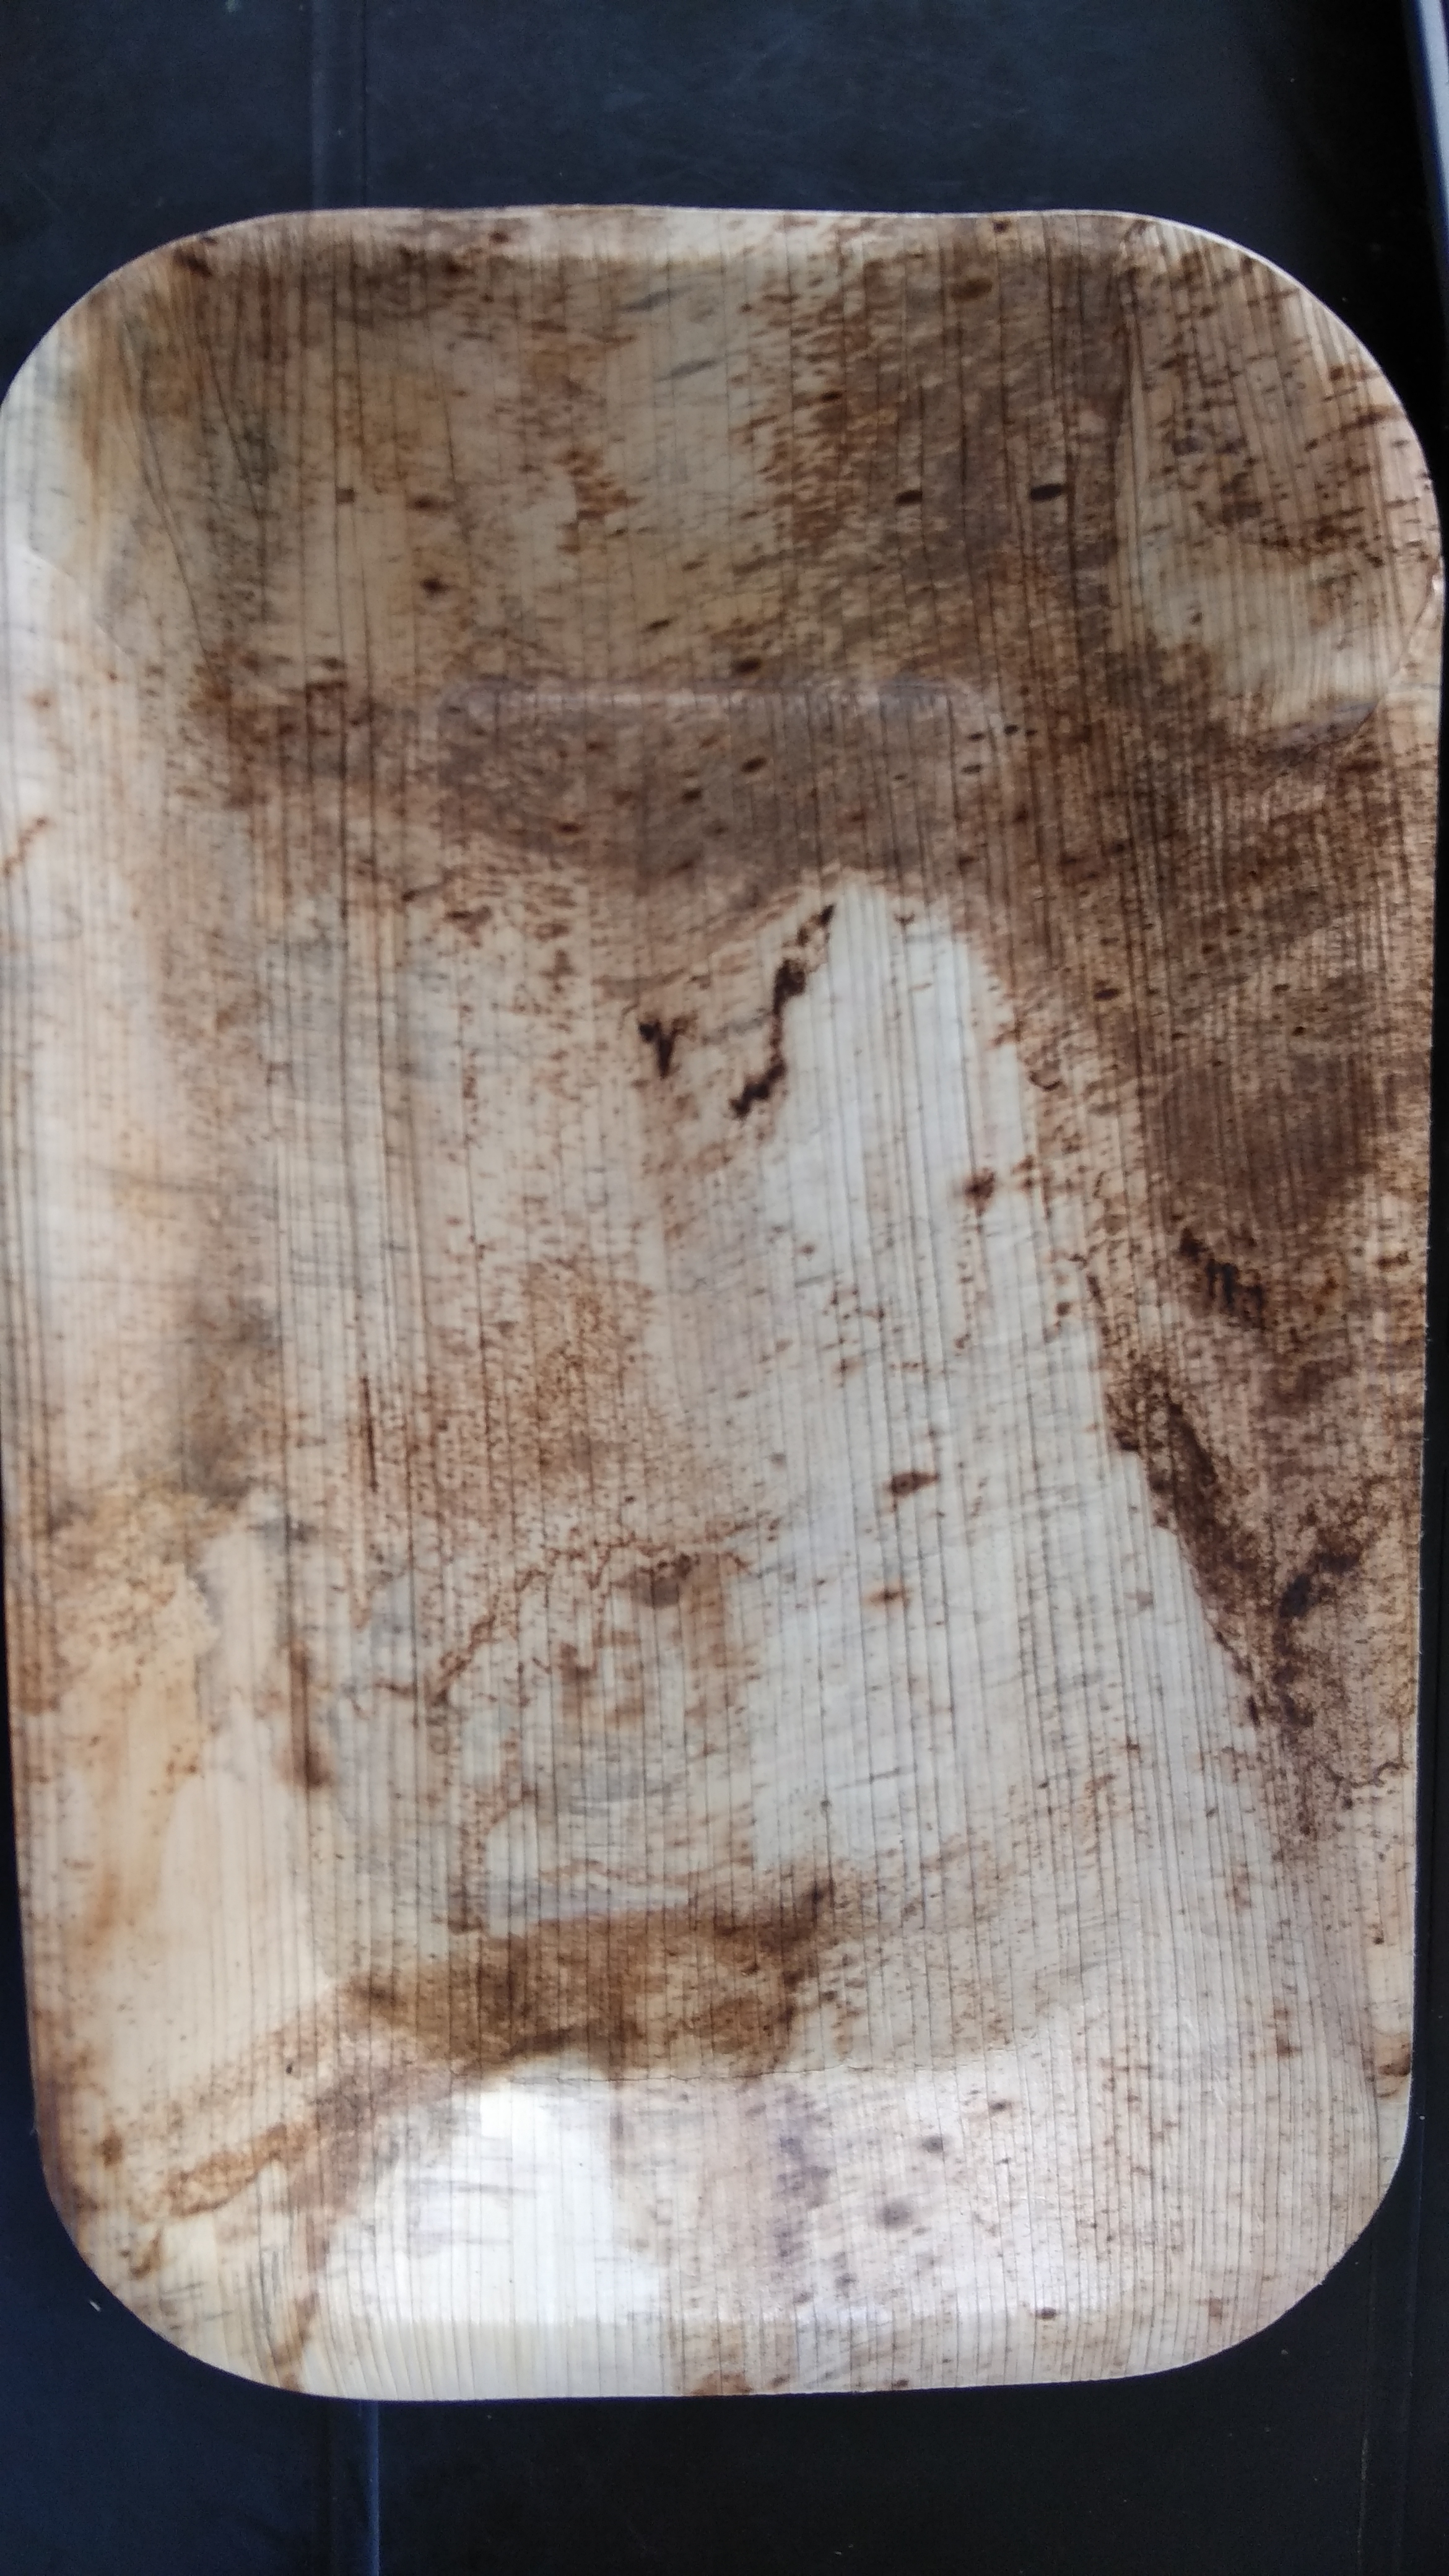plates: (16, 239, 1449, 2378)
